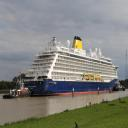cruises: (24, 33, 121, 96)
